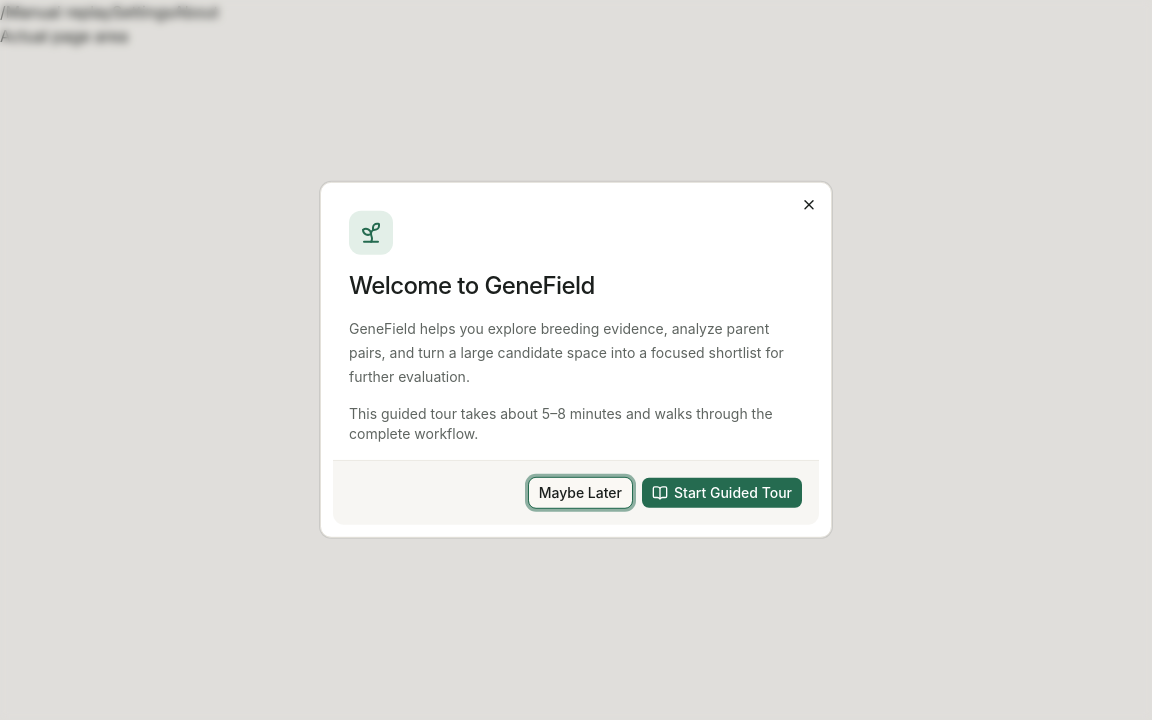
guided tour lifecycle › offers a dismissible welcome once and keeps the application accessible
Expected: the heading "Welcome to GeneField" is shown, [349,271,595,300]
Click the button "Maybe Later".
click(580, 493)  # box [528,477,633,509]
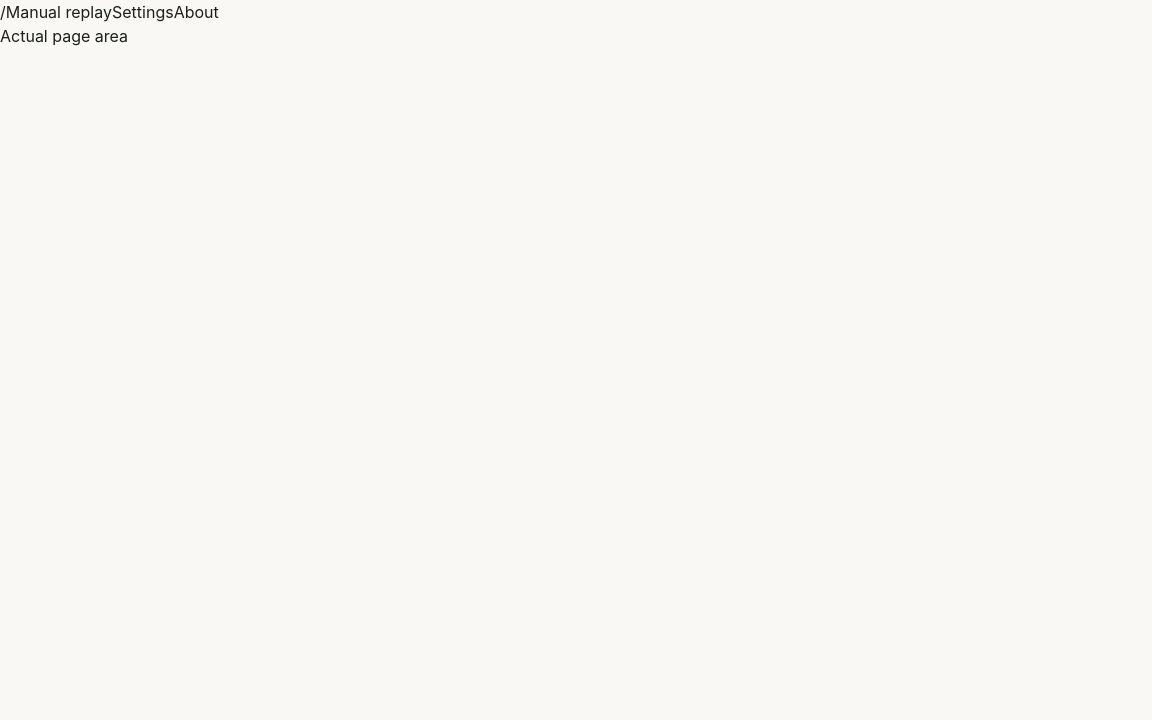
Expected: the dialog is gone
